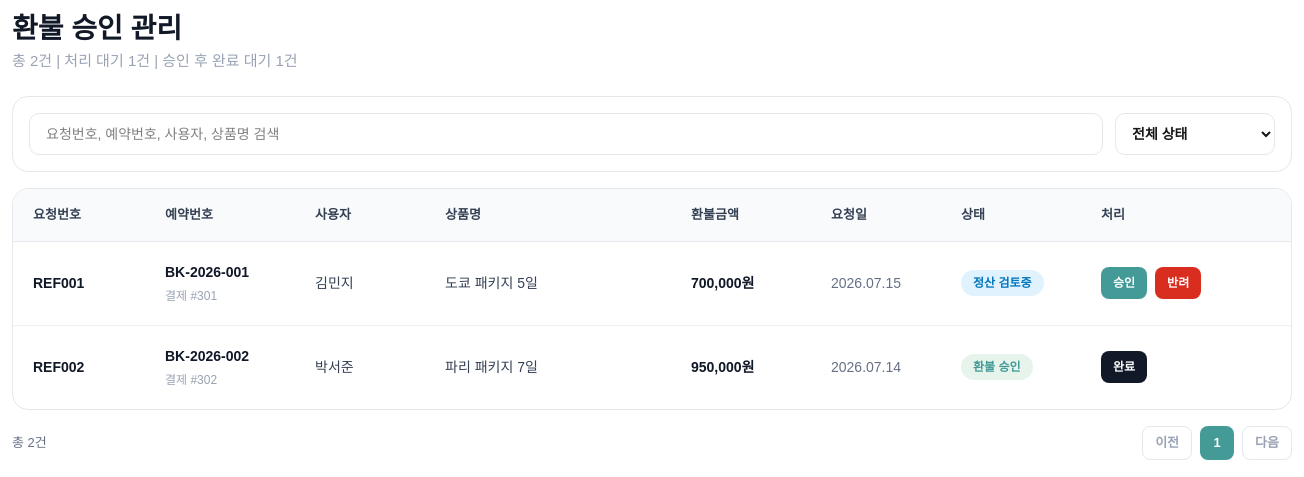
Test: MoneyRefundManageClient 컴포넌트 테스트 › 검색어로 목록을 필터링한다
Type "파리" into the search field with placeholder "요청번호, 예약번호, 사용자, 상품명 검색" at (566,134), box left=29, top=113, right=1103, bottom=155
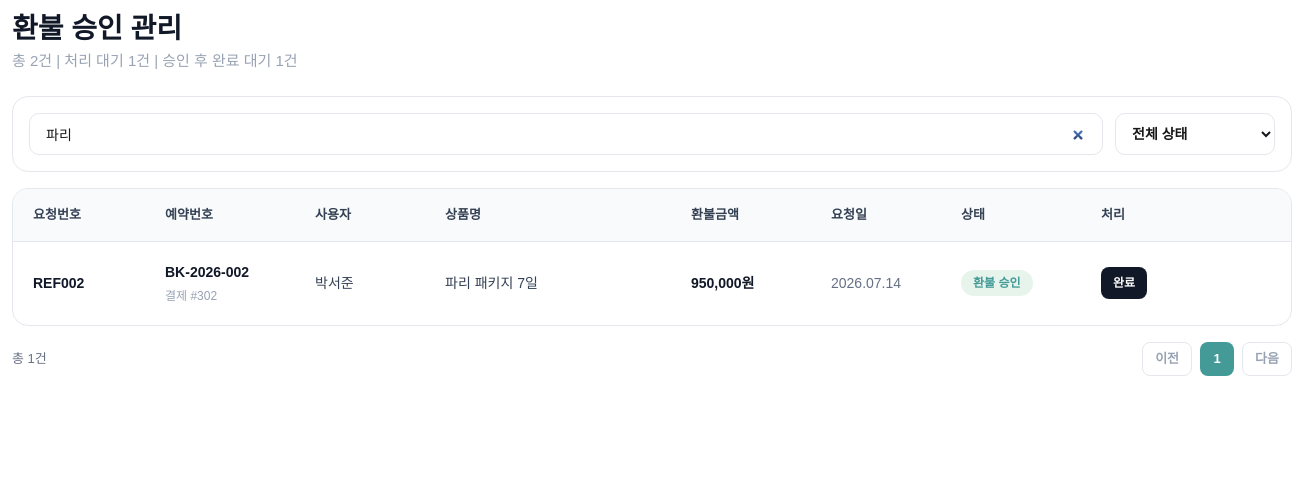
Expected: the text "파리 패키지 7일" is shown, left=425, top=241, right=671, bottom=325
Expected: the text "도쿄 패키지 5일" is gone
